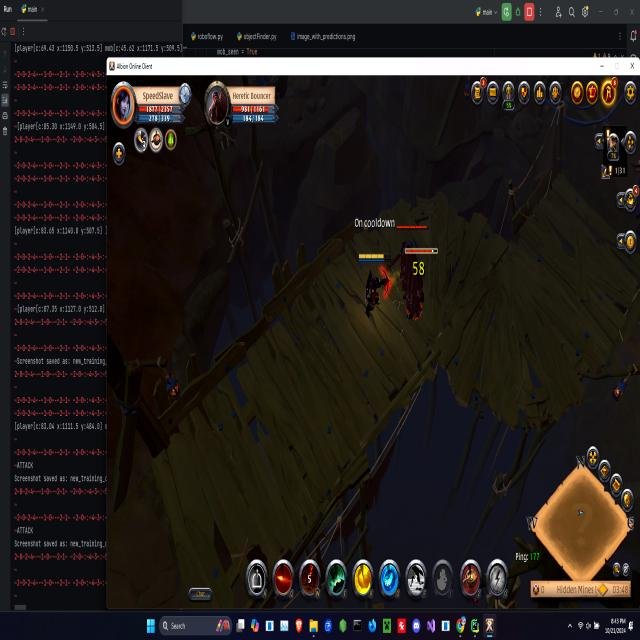ore: (393, 234, 438, 330), (390, 220, 431, 301)
red: (356, 251, 389, 323)
